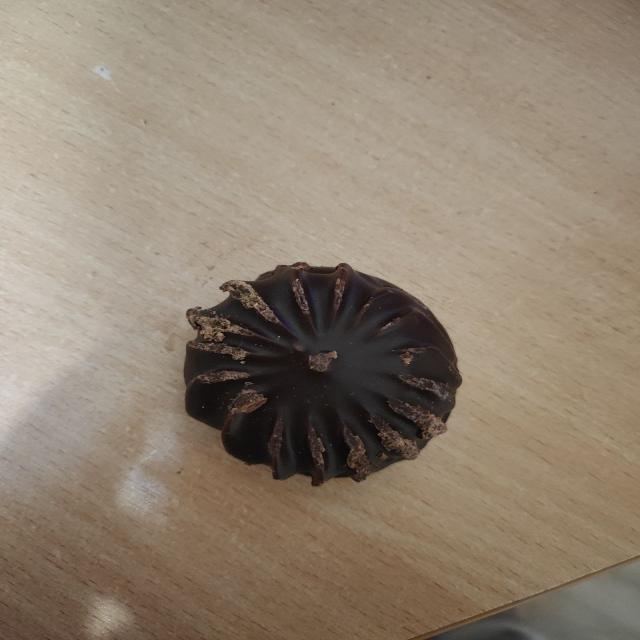Circle: (178, 263, 464, 485)
